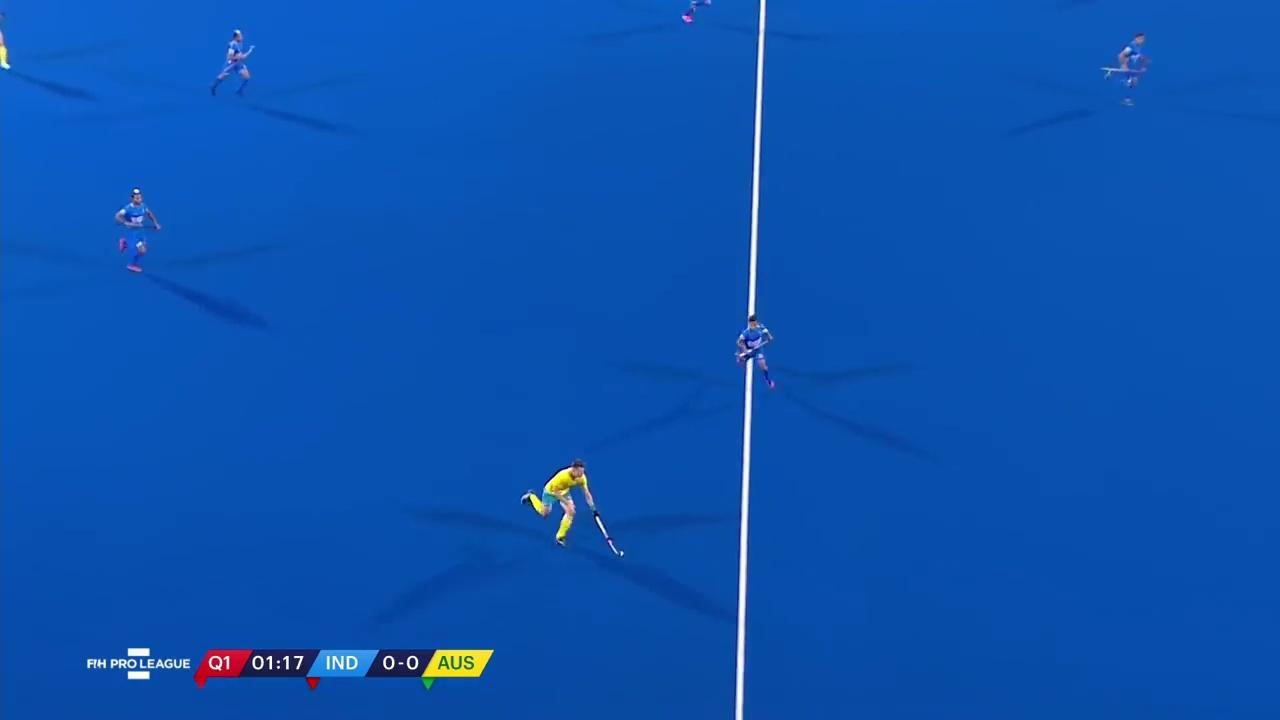ball: (611, 543, 630, 561)
